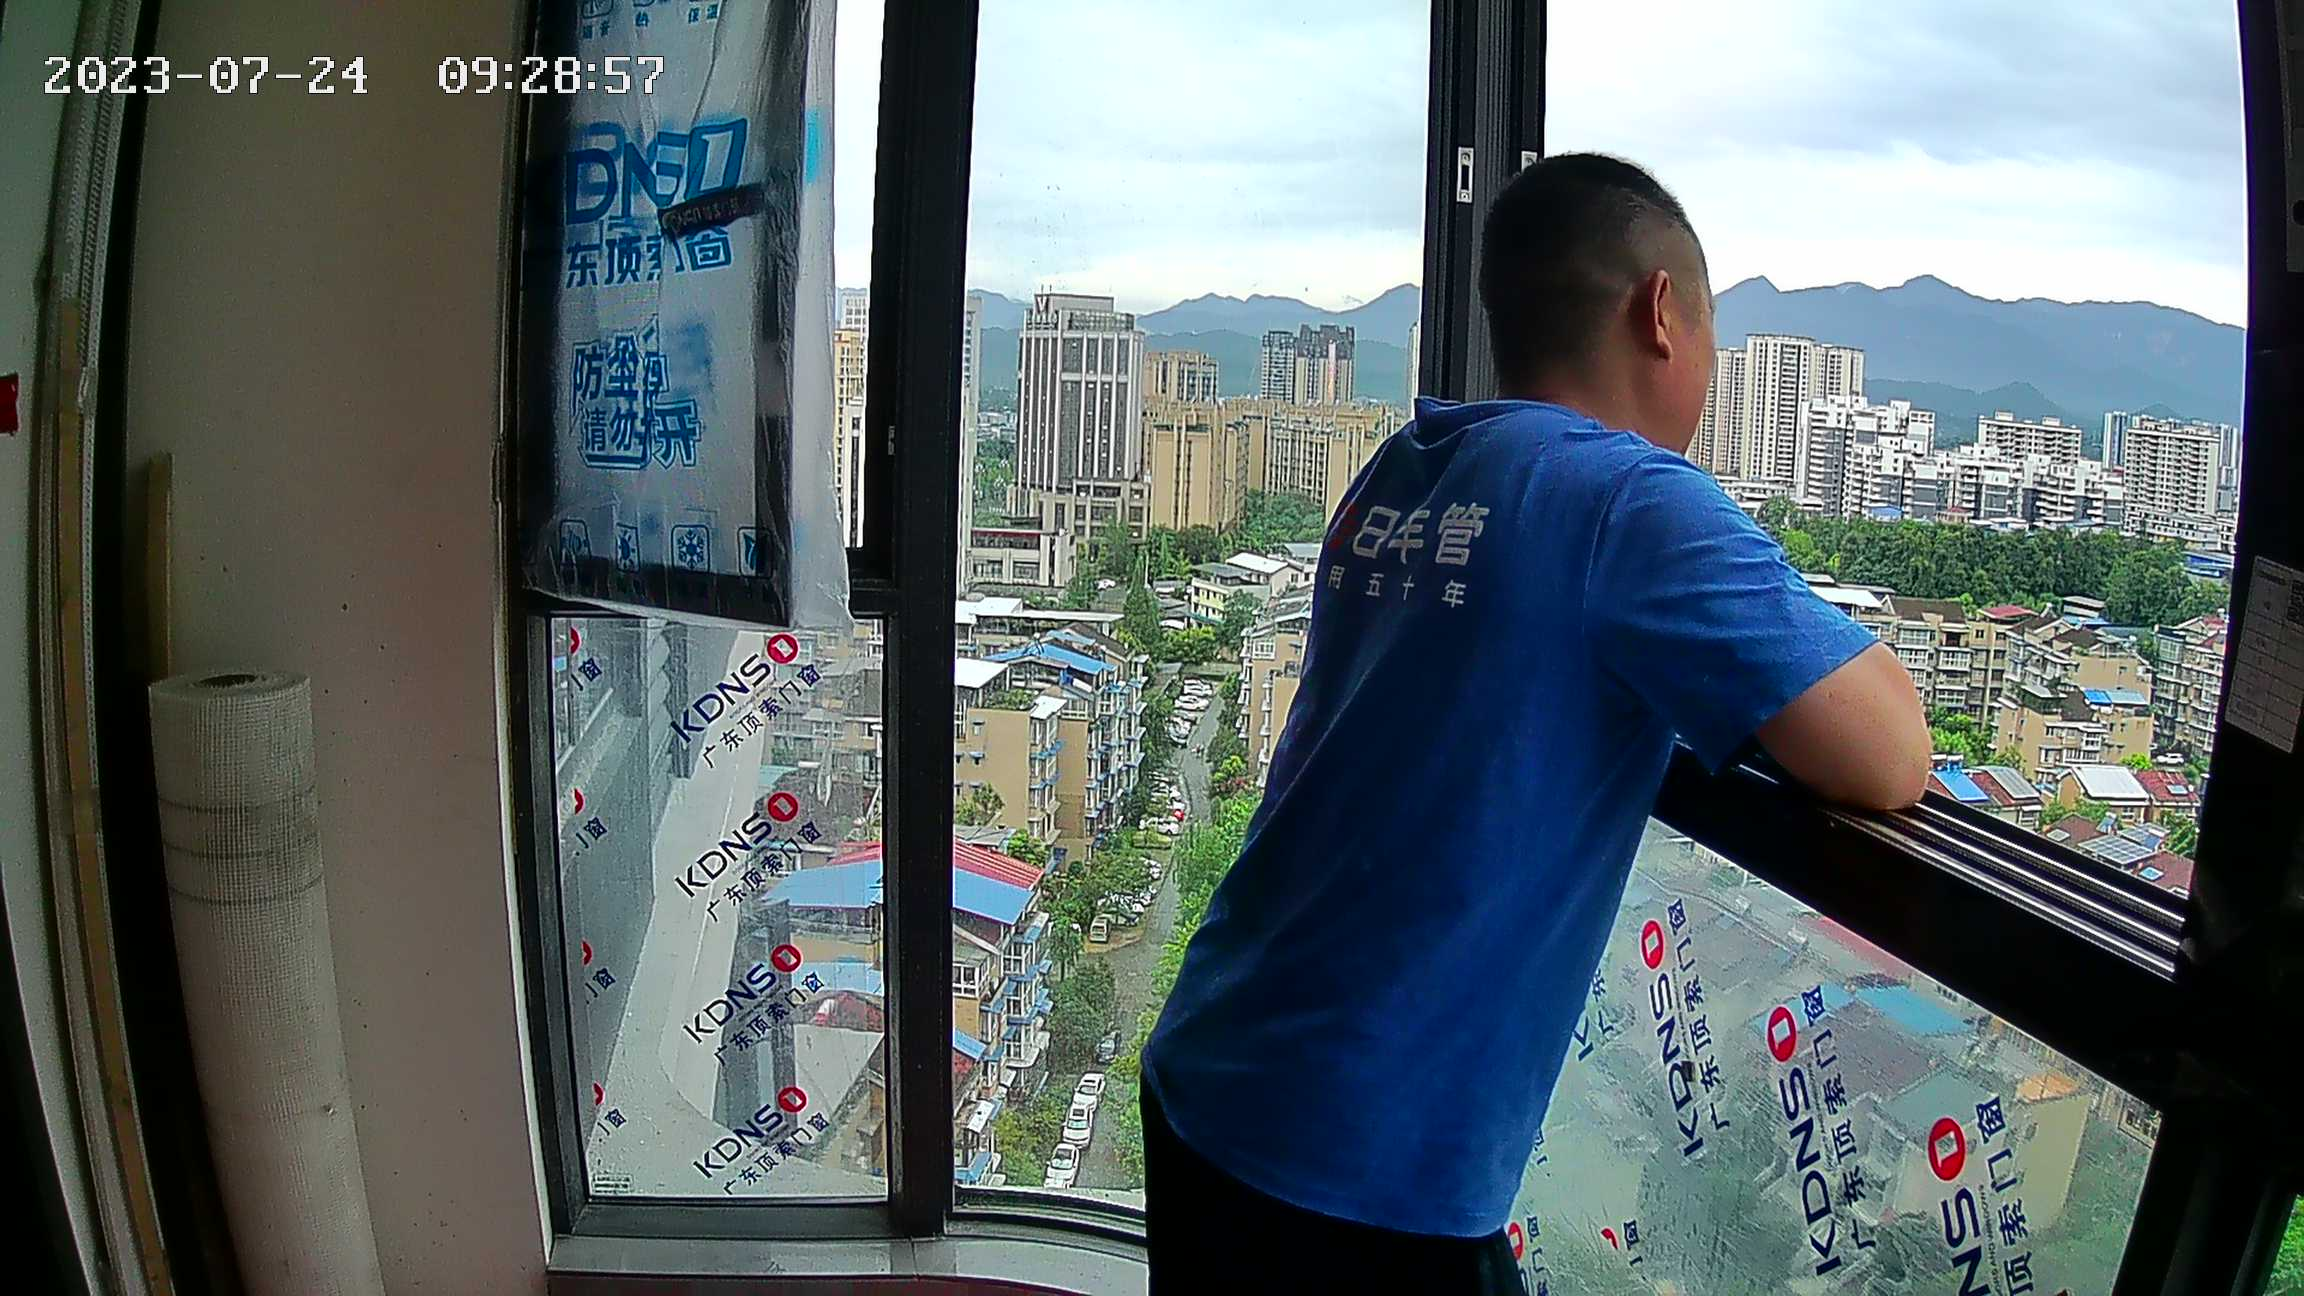people: (1143, 155, 1926, 1296)
window: (515, 1, 2304, 1292)
